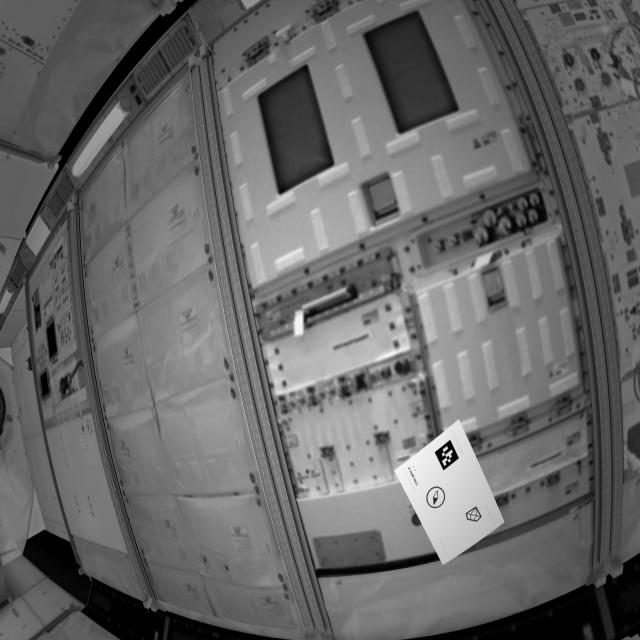compass: (425, 487, 448, 511)
diamond: (465, 506, 485, 524)
